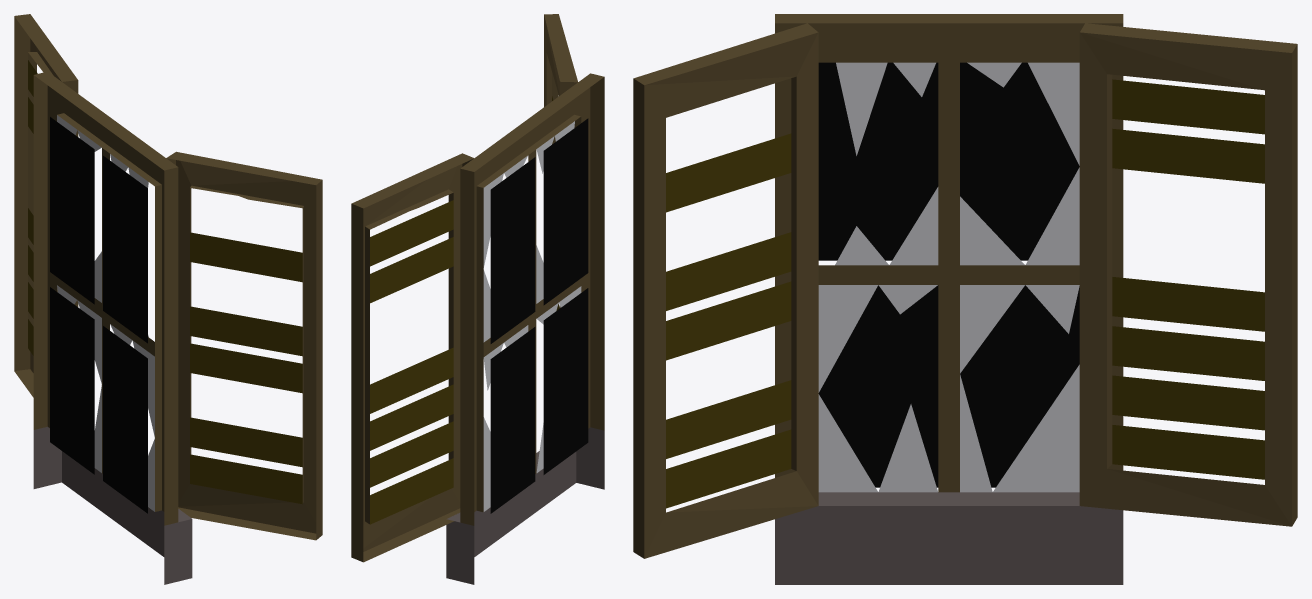
The picture shows the model from 3 angles, left to right: view 1: azimuth 30°, elevation 25°; view 2: azimuth 150°, elevation 25°; view 3: azimuth 270°, elevation 25°; orthographic projection. The views are drawn at different scales.
Bounding box in the file's own units: 0.2422 × 0.875 × 0.9531.
